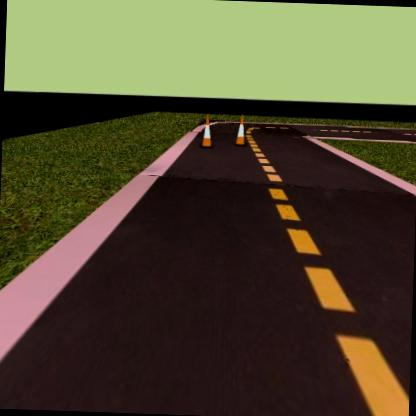Cone: (197, 113, 218, 152), (232, 113, 250, 150)
